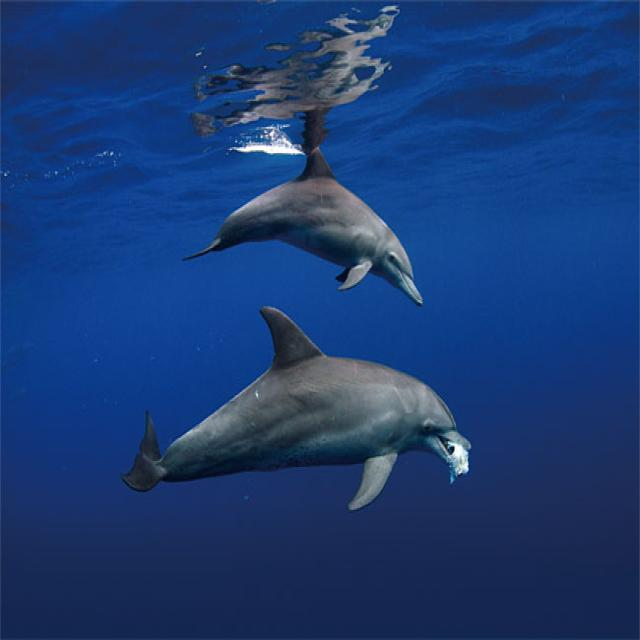dolphin: (122, 307, 470, 511), (205, 124, 422, 303)
